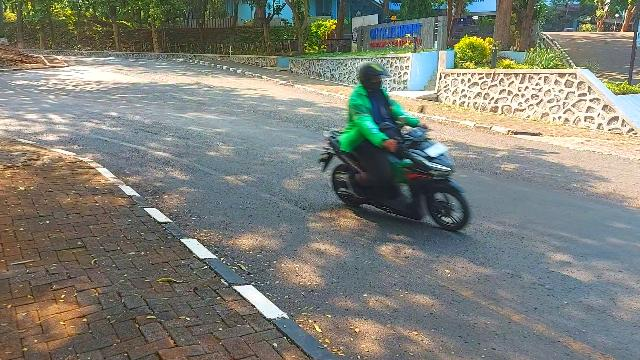helm: (360, 63, 392, 91)
motor: (320, 105, 471, 233)
